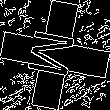M_E: (26, 28, 84, 82)
